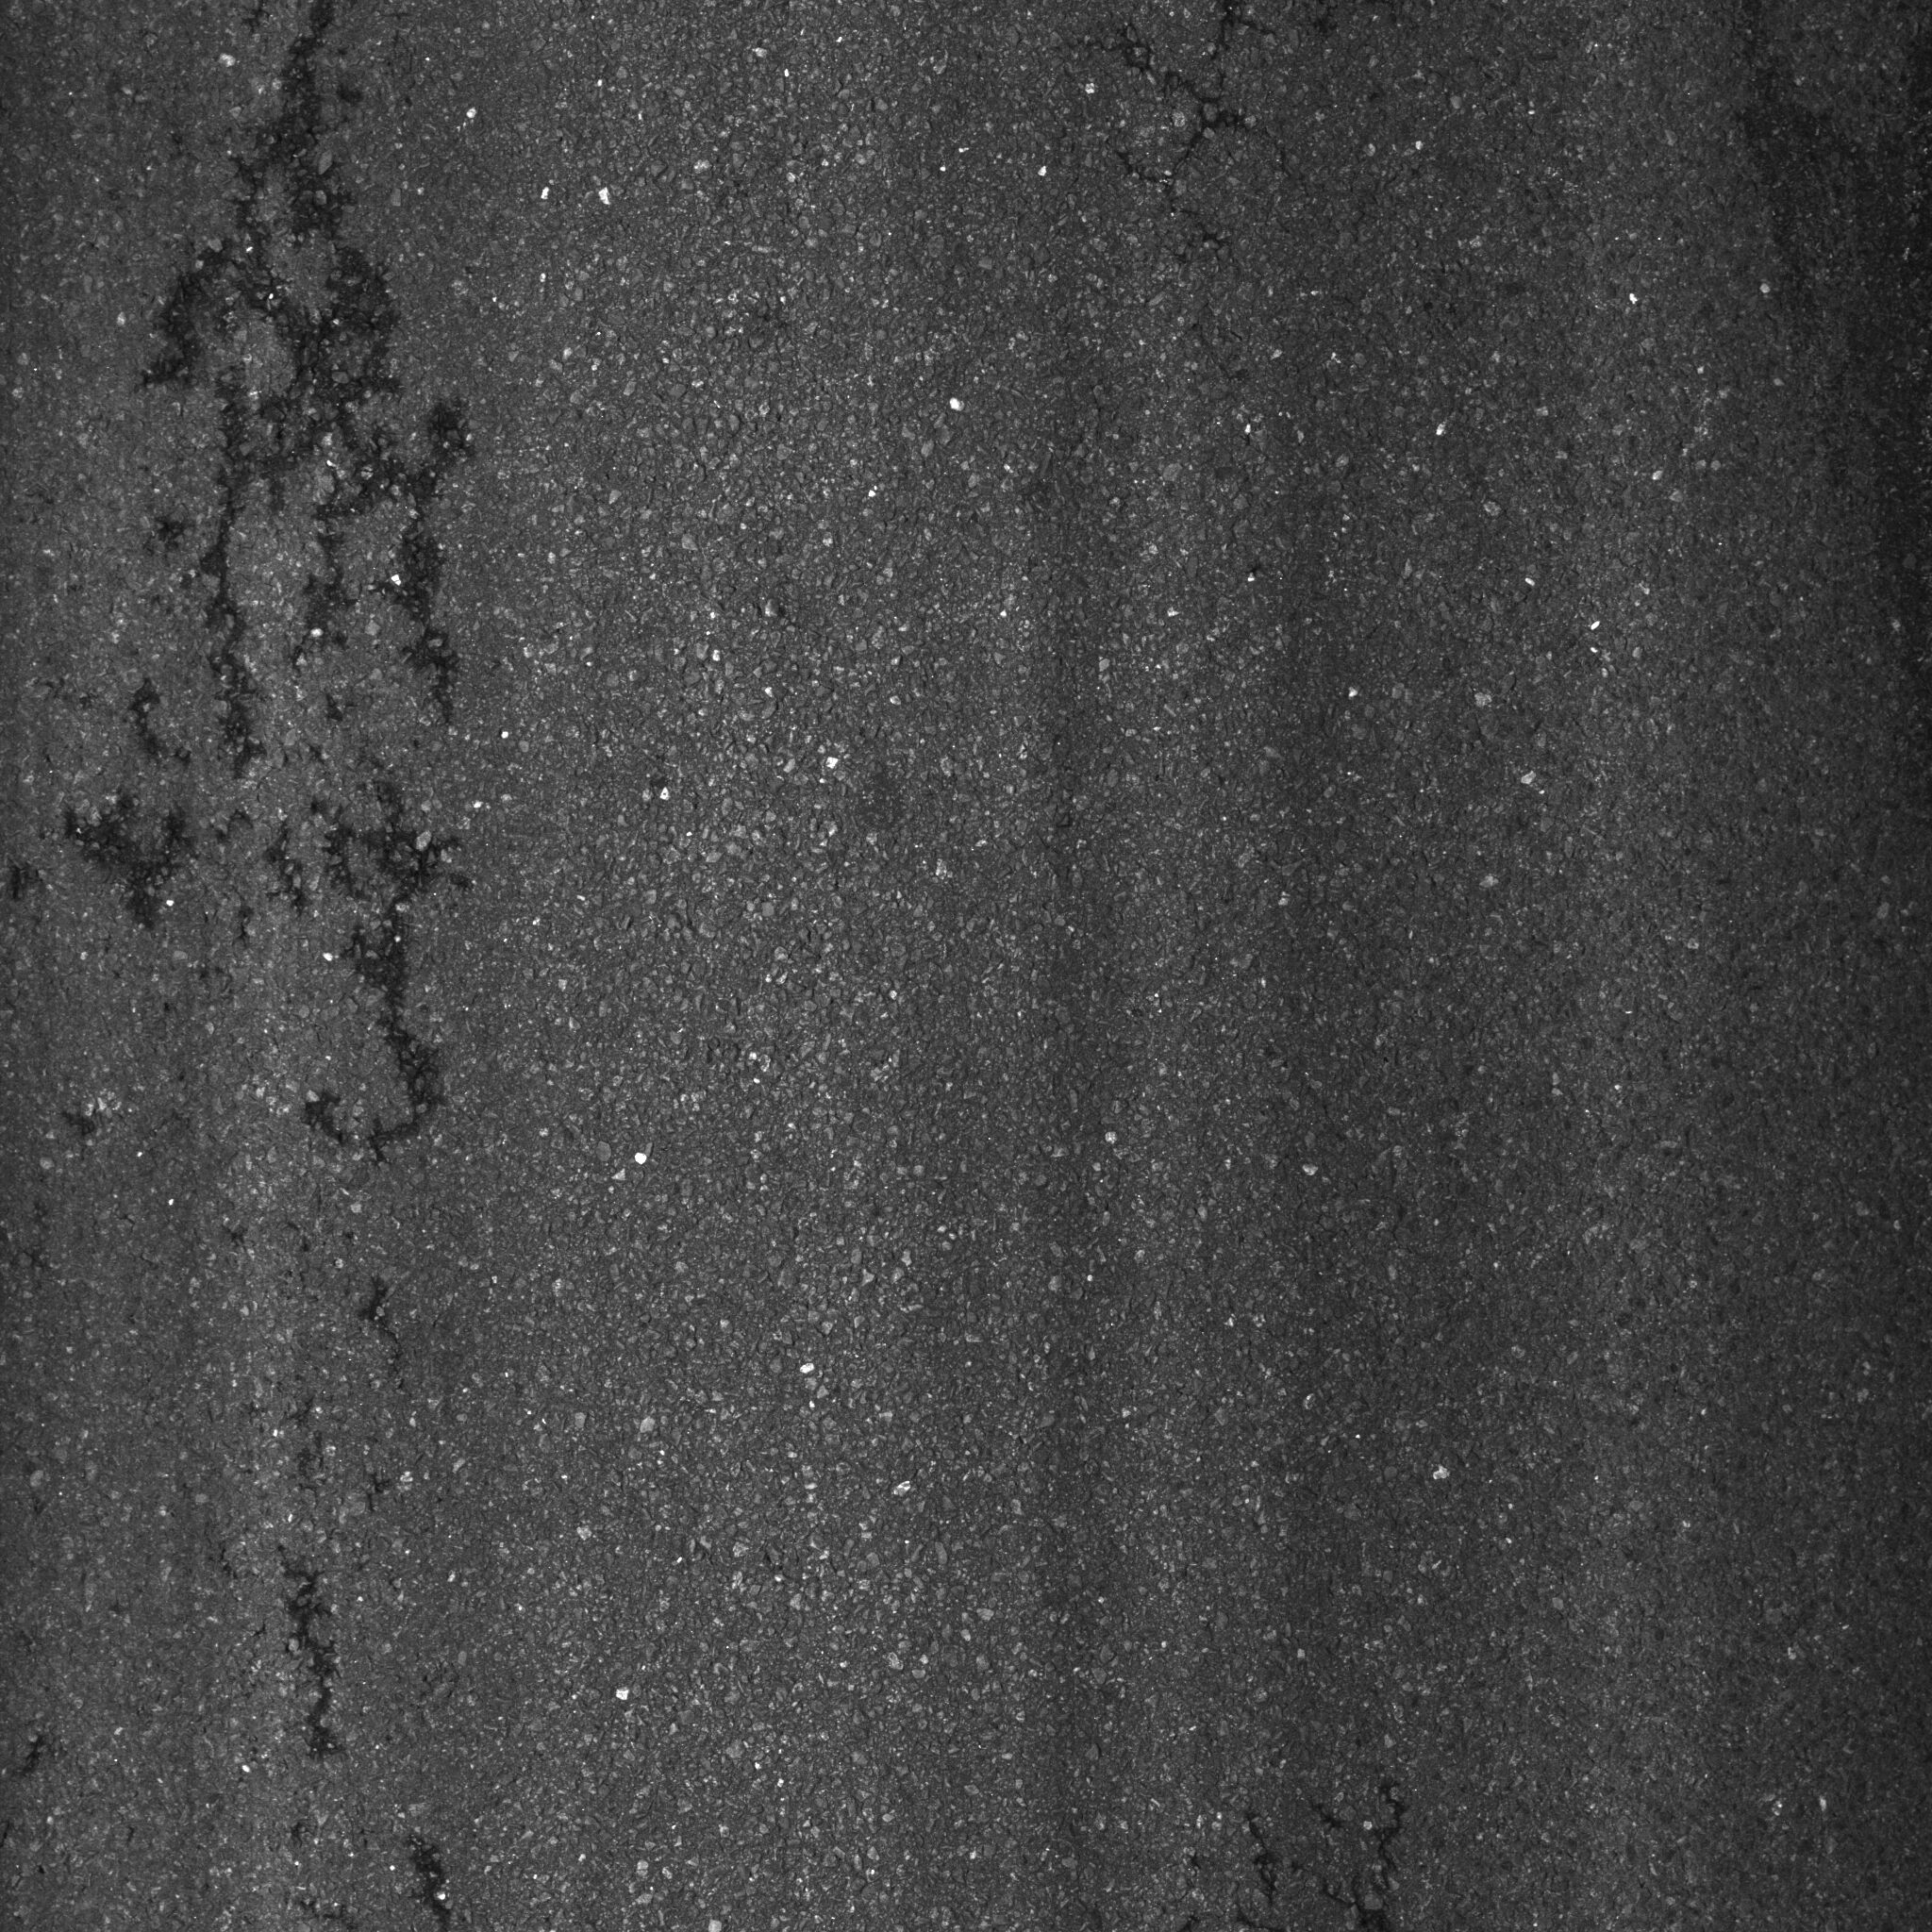alligator: (30, 16, 525, 1180)
